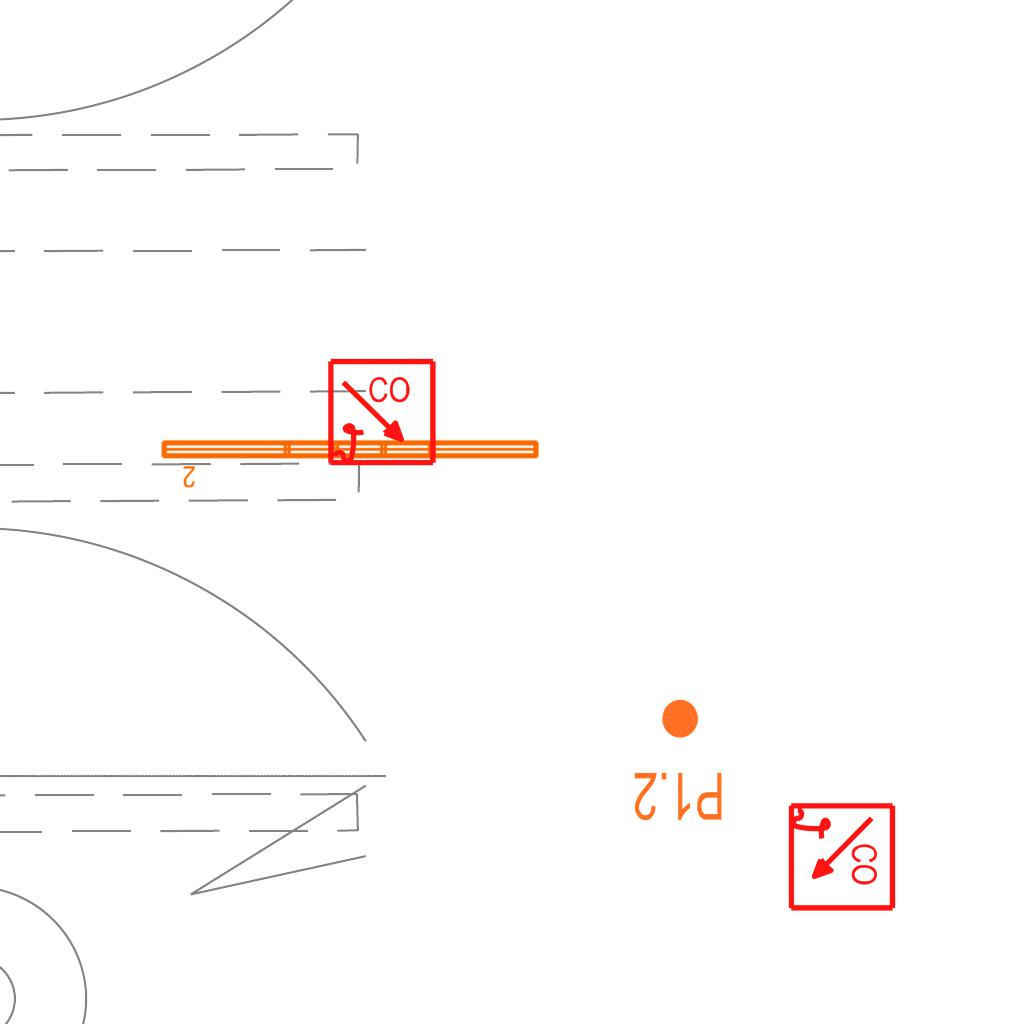Ambulanz_Pendelleuchte_LED: (157, 434, 544, 490)
Downlight_LED_Einbauleuchten_Flur: (632, 696, 725, 824)
ROA_Rauchmelder_optisch_mit_Signalgeber_(Sockelsirene): (784, 801, 897, 914), (326, 357, 439, 470)
